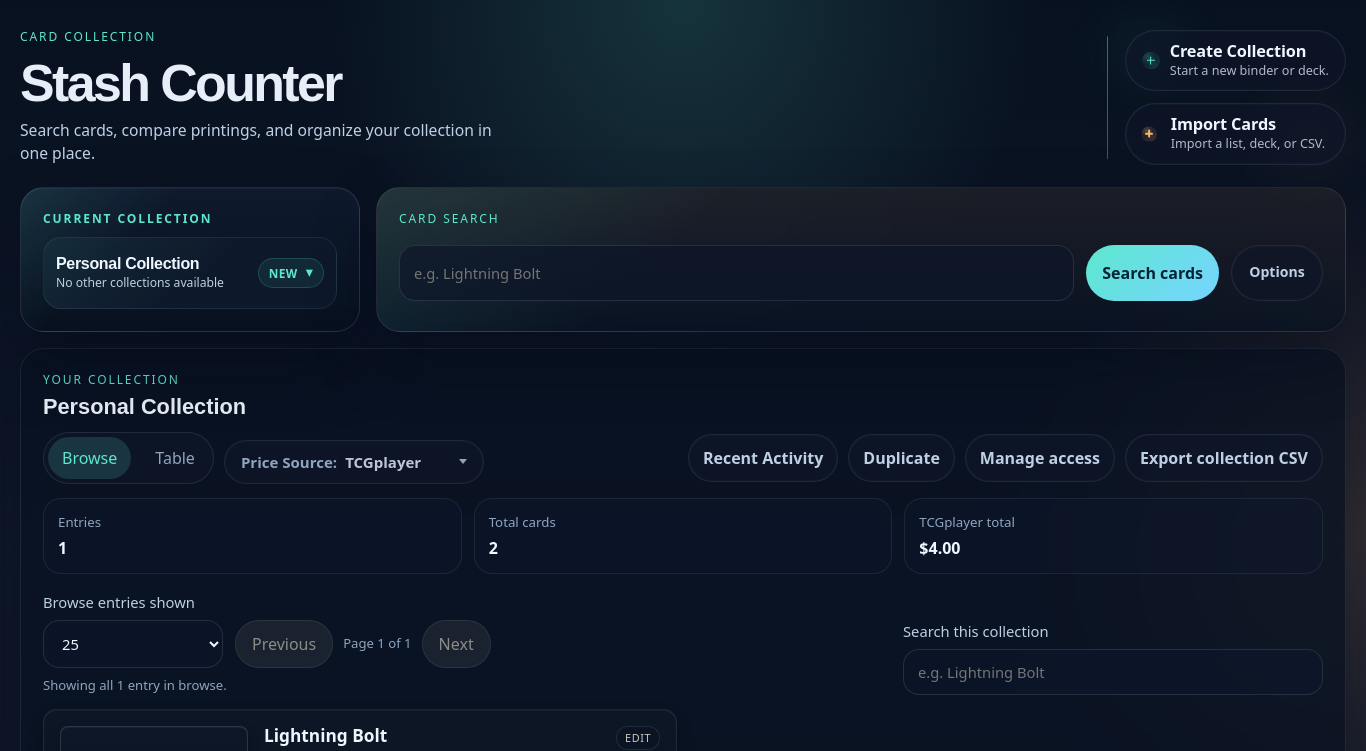
Test: App › duplicates the selected collection and selects the duplicate
Click the button "Duplicate". click: (902, 458)
box: [848,434,955,482]
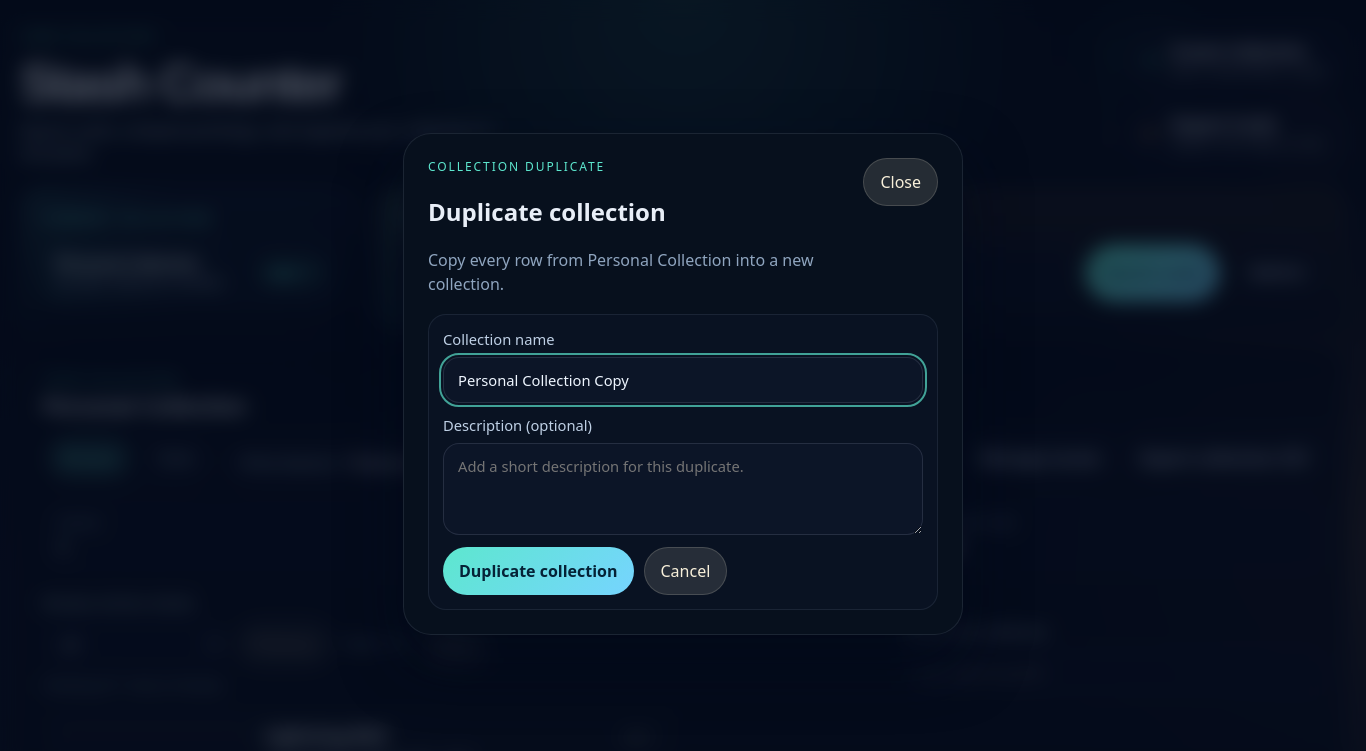
Expected: the field labelled "Collection name" holds "Personal Collection Copy", [443,357,923,403]
Click the button "Duplicate collection". click: (538, 571)
box: [443,547,634,595]
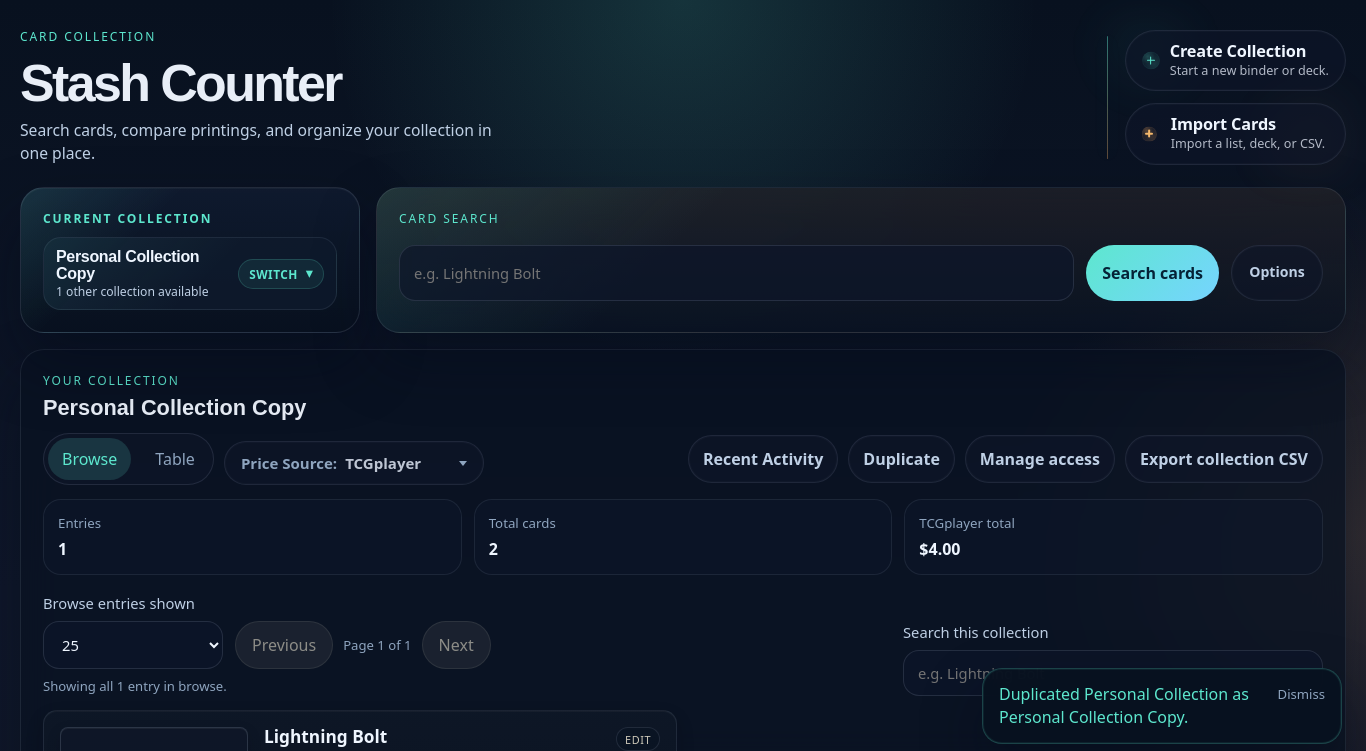
Expected: the message shows "Duplicated Personal Collection as Personal Collection Copy.", [999,683,1249,728]
Expected: the heading "Duplicate collection" is gone
